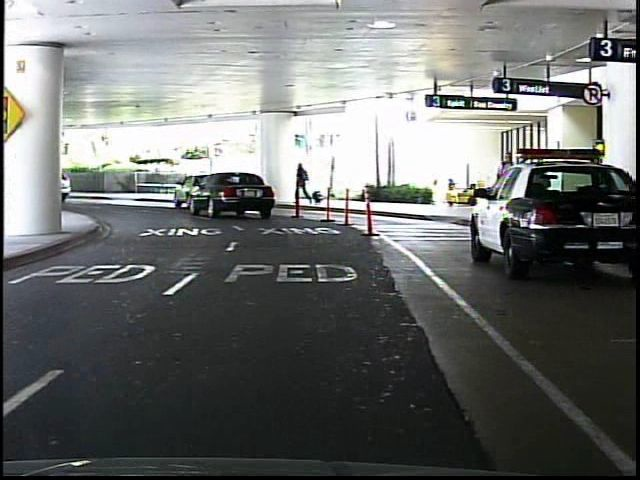person: (291, 161, 318, 209)
